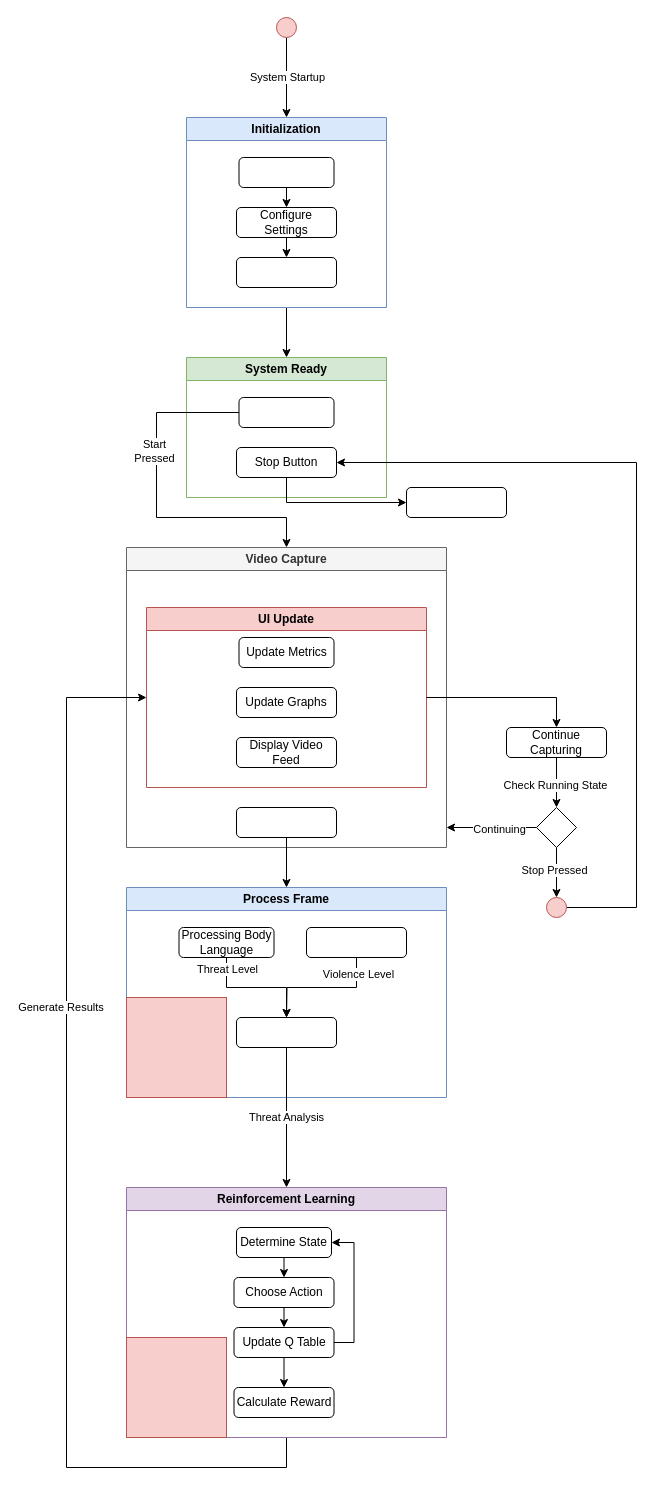
Image size: 662x1493. Some labels were removed from this diagram. The shapes that lost their labels are listed below. From the top down, each one's centre as x and y in pixels, then its label:
(x=286, y=172): Load Models
(x=286, y=272): Initialize Session State
(x=286, y=412): Start Button
(x=456, y=502): Display Q-Table Results
(x=286, y=822): Capture Frame
(x=356, y=942): Processing Lip Reading
(x=176, y=1047): Uses: MediaPipe, l andmark normalization, lip region extraction
(x=286, y=1032): Combine Threat Levels
(x=176, y=1387): Uses: Q-Learning, state determination and action selection
